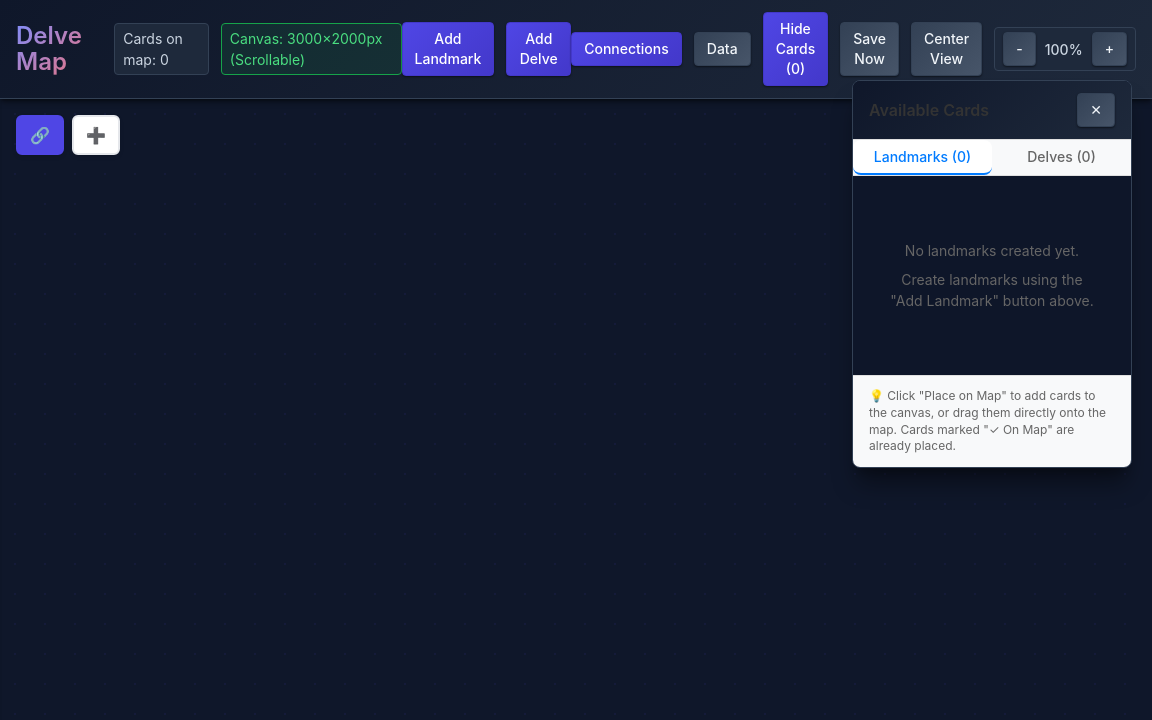
DelveMapPage › opens landmark form when Add Landmark button is clicked
Step 1. Click the button "Add Landmark" → click(448, 49), box left=402, top=22, right=494, bottom=76
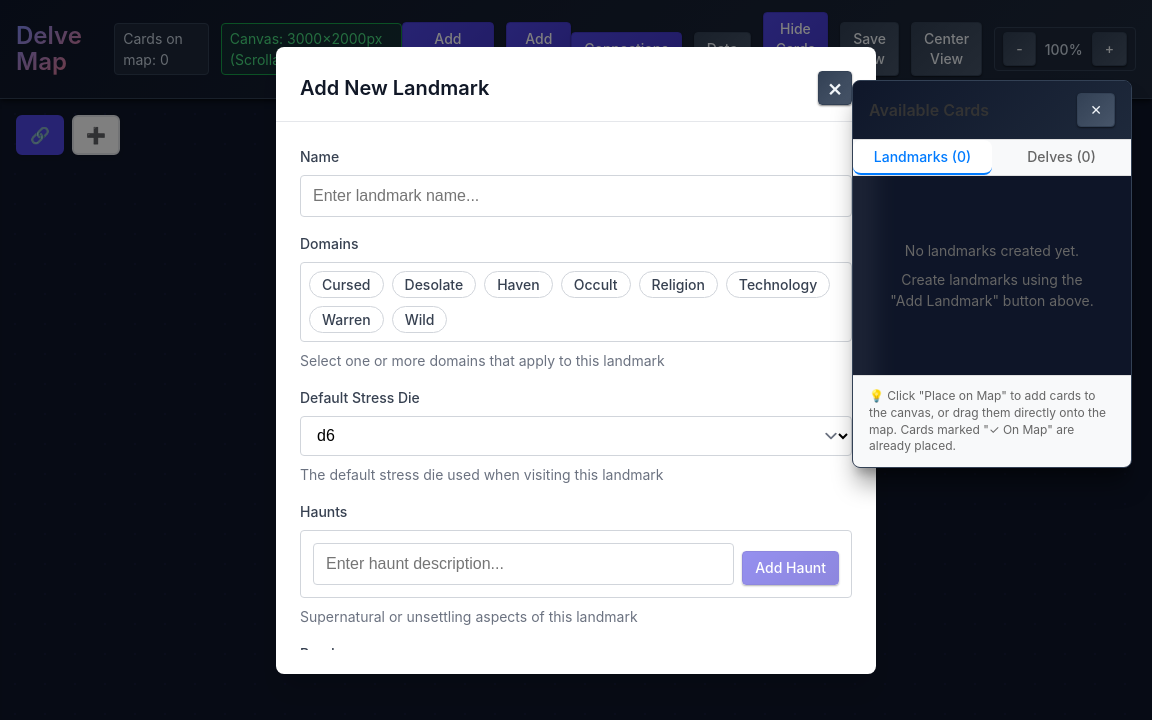
Now the heading "Add New Landmark" is shown, box left=300, top=72, right=489, bottom=102
